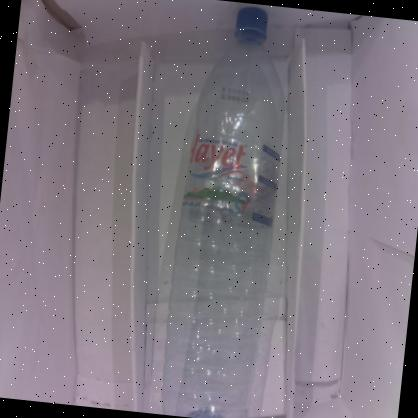bottle: (149, 0, 297, 418)
cap: (232, 6, 270, 42)
label: (176, 129, 282, 228)
